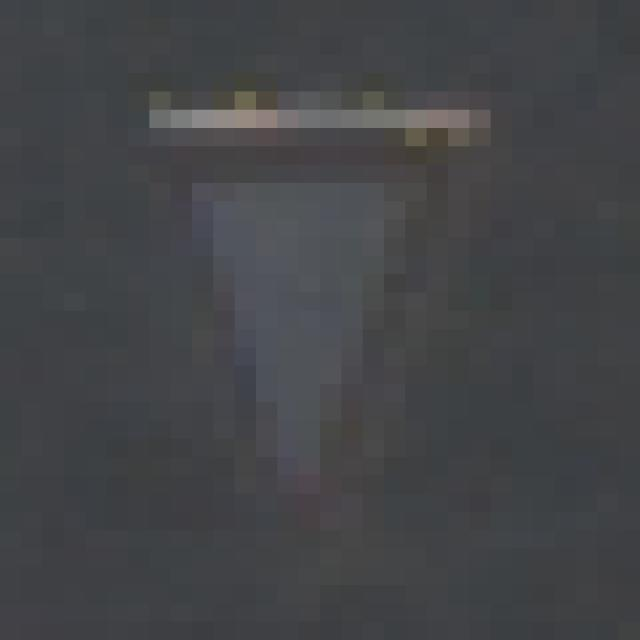Give Way: (108, 93, 534, 550)
